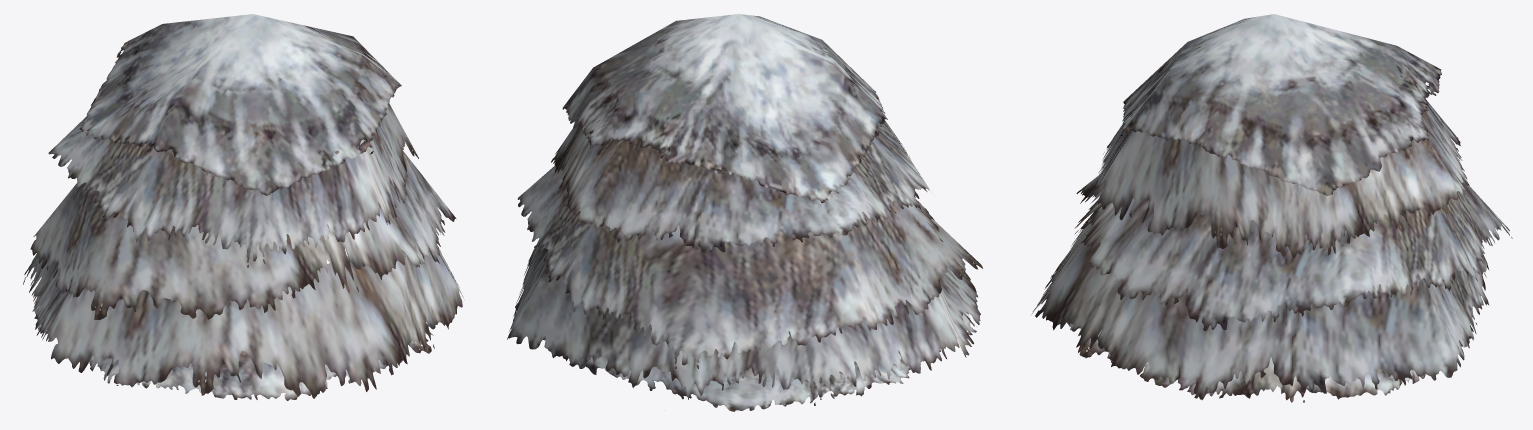
The model's file is Item_06.FBX.
3 views of the same model, side by side, from view 1: azimuth 30°, elevation 25°; view 2: azimuth 150°, elevation 25°; view 3: azimuth 270°, elevation 25° (orthographic). The views are drawn at different scales.
Visible parts, largest first — view 1: item_06; view 2: item_06; view 3: item_06.
Part boxes in pixels (left/top/right/bottom): item_06: left=23, top=14, right=463, bottom=400; item_06: left=507, top=14, right=982, bottom=411; item_06: left=1031, top=14, right=1512, bottom=402.
Bounding box in the file's own units: 321 × 214 × 318.
